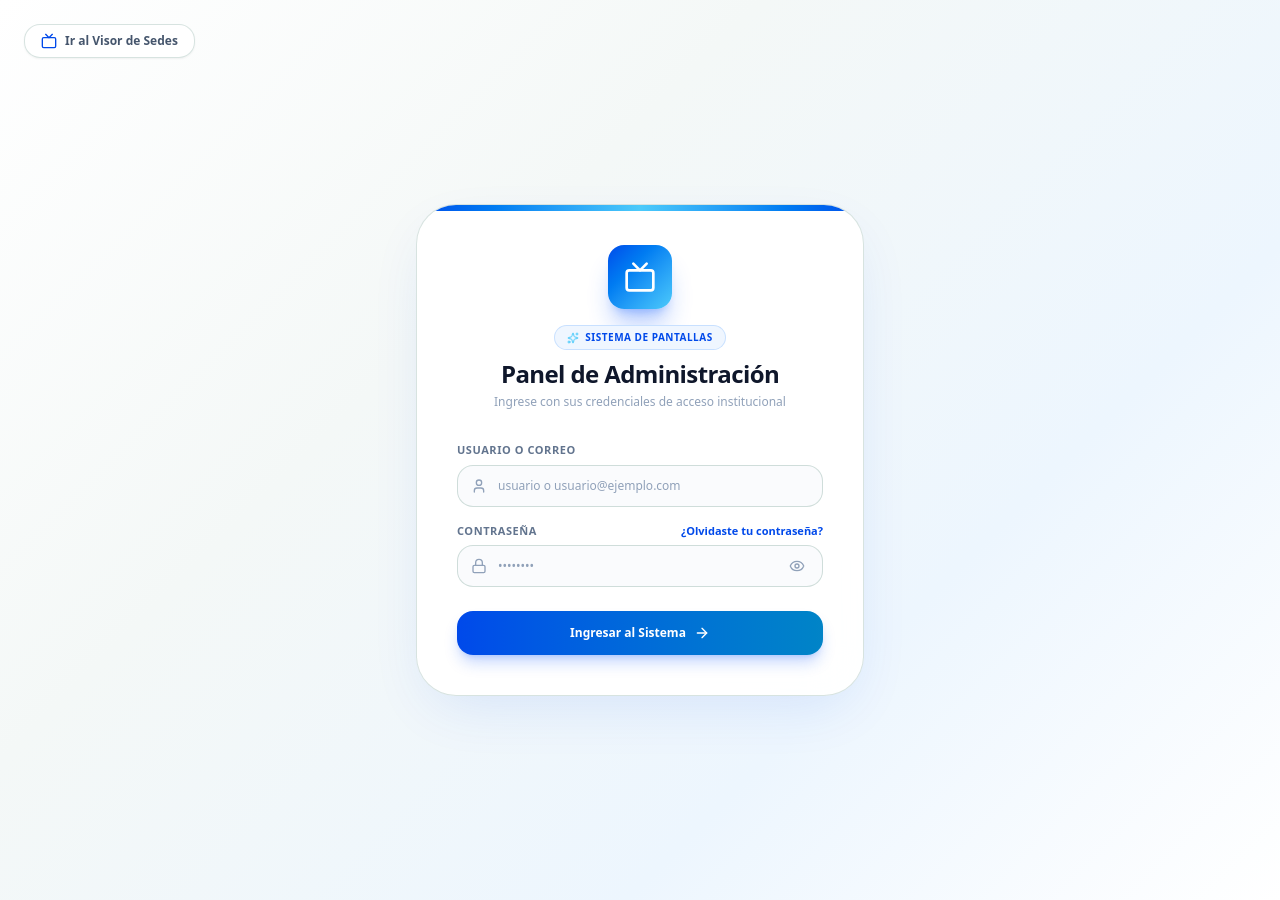
Test: AdminLogin Component and Password Recovery › progresses from Step 1 to Step 2 upon requesting code successfully
Click the button "¿Olvidaste tu contraseña?": (752, 531) [681,522,823,539]
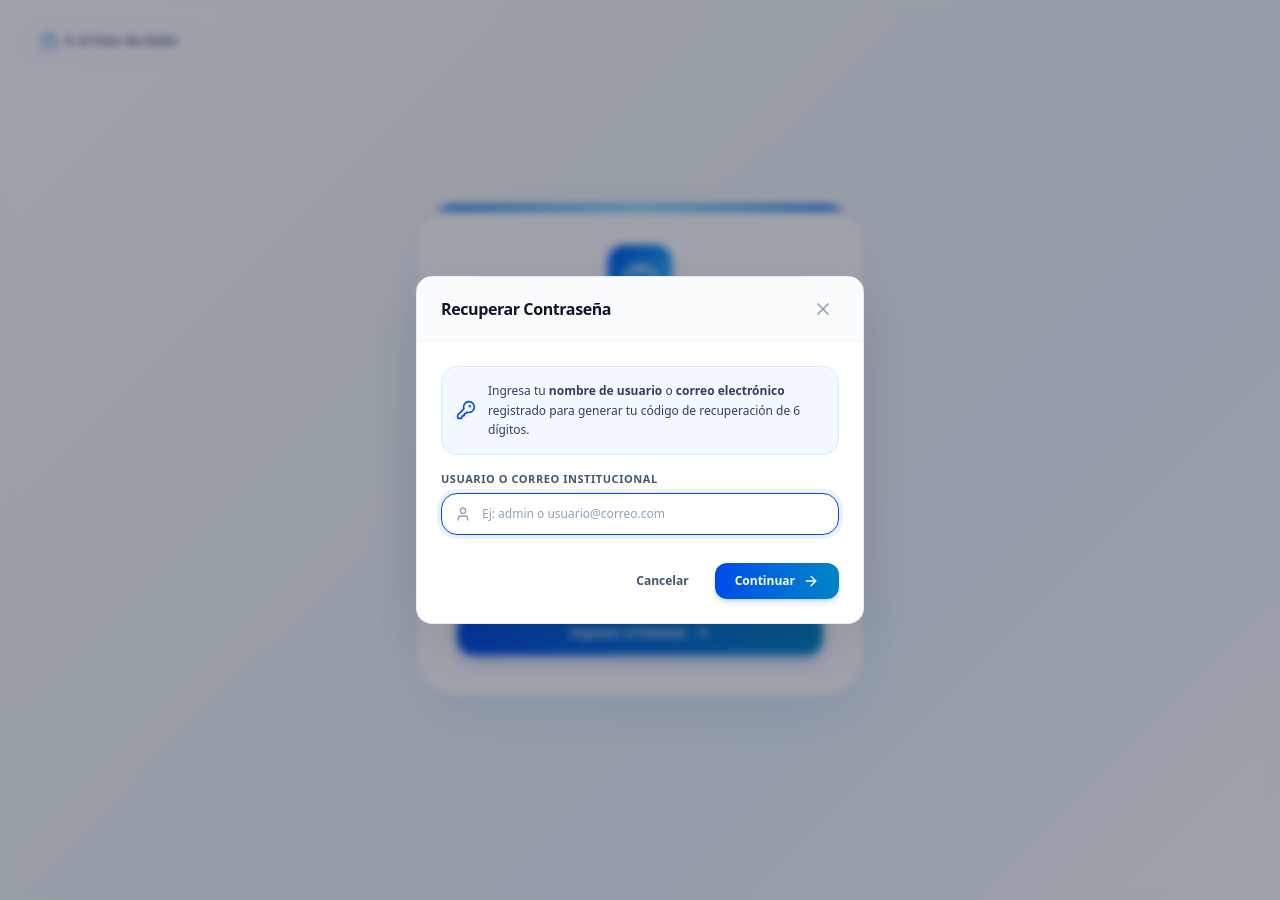
In the field with placeholder "Ej: admin o usuario@correo.com": (640, 514) [441,493,839,535], type "admin"
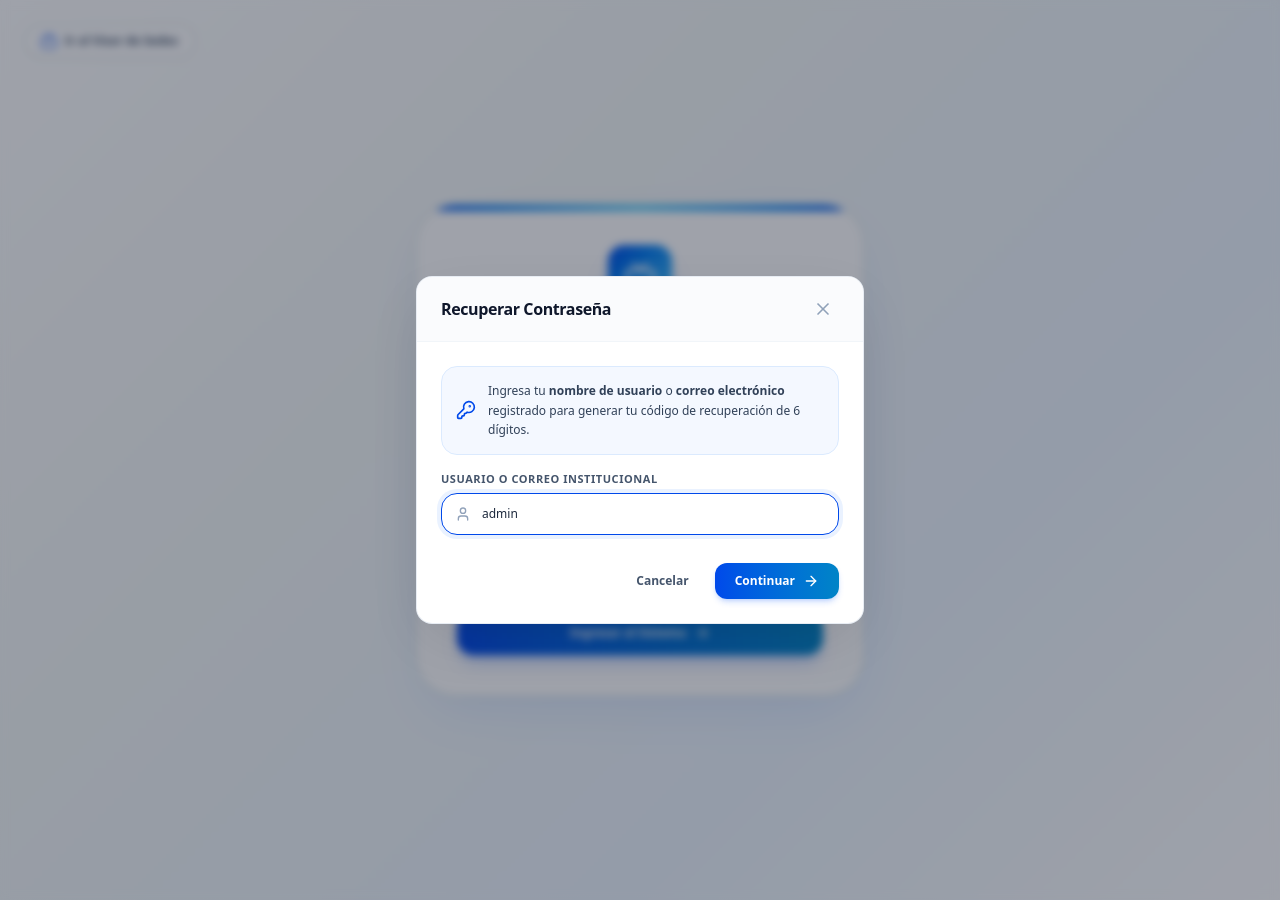
Click the button "Continuar": (777, 581) [715,563,839,599]
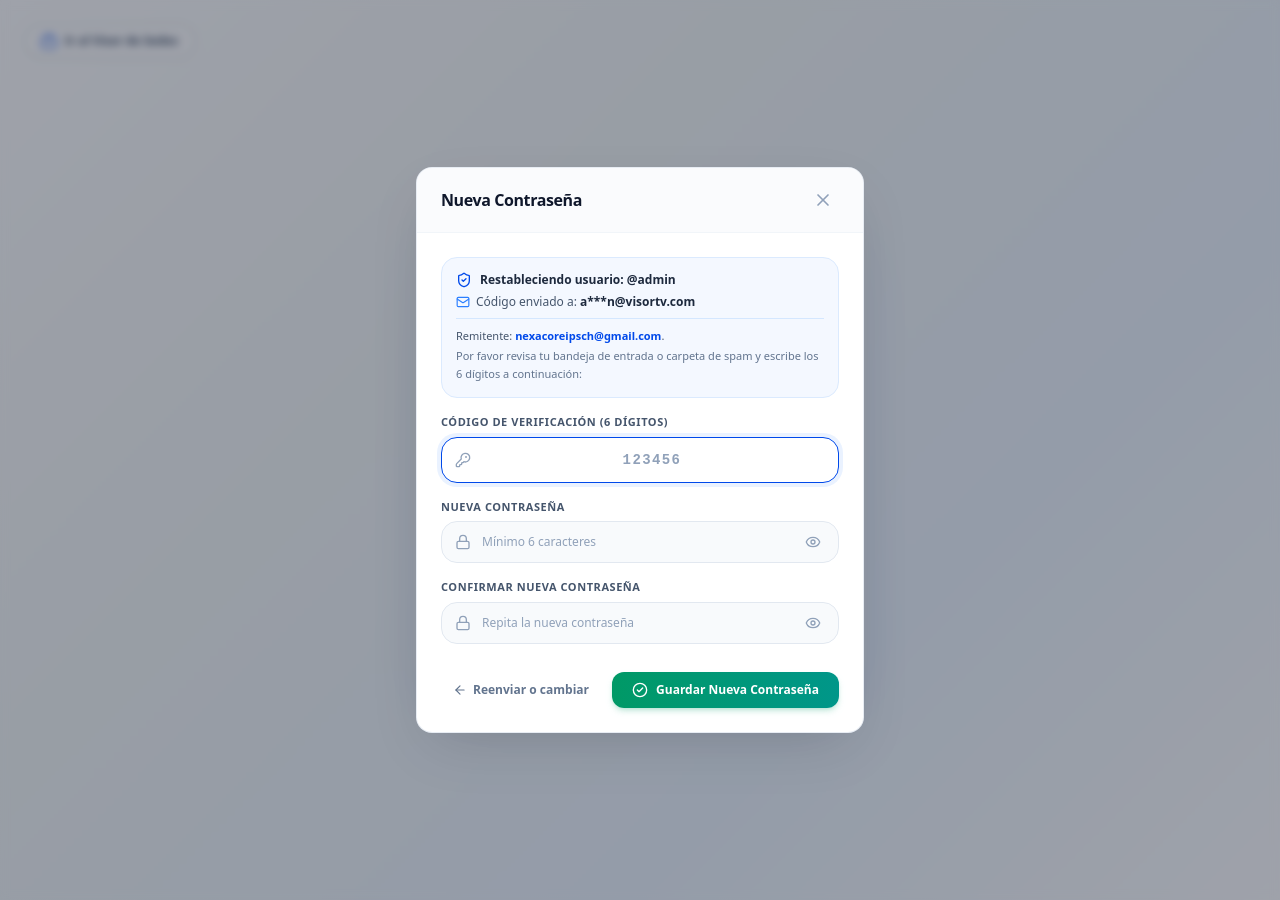
Expected: the heading "Nueva Contraseña" is shown, [441,188,582,212]
Expected: the text "Restableciendo usuario: @admin" is shown, [480,272,676,288]
Expected: the text "nexacoreipsch@gmail.com" is shown, [515,328,661,343]
